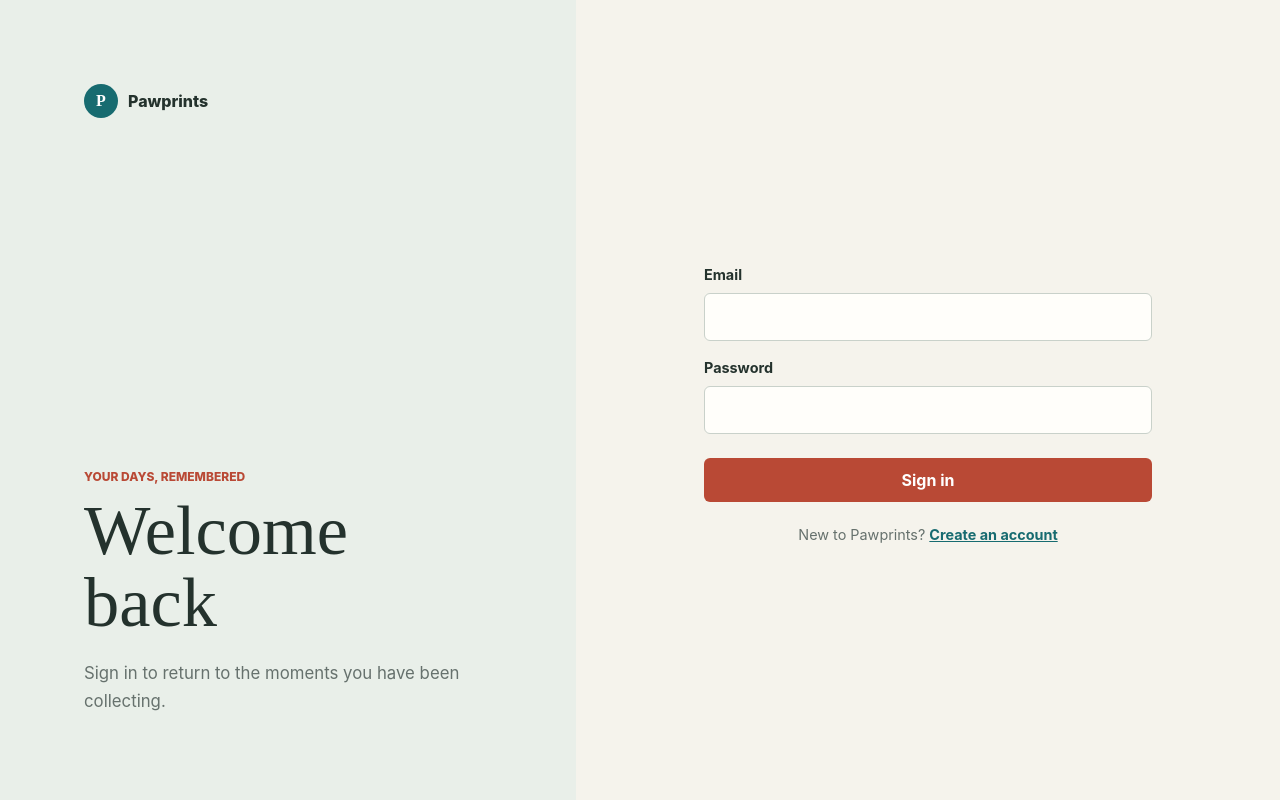
Test: auth shell › shows a generic login error without leaking backend detail
Expected: the heading "Welcome back" is shown, [84,491,348,641]
In the field labelled "Email": point(928, 316) [704,292,1152,340], type "sam@example.com"
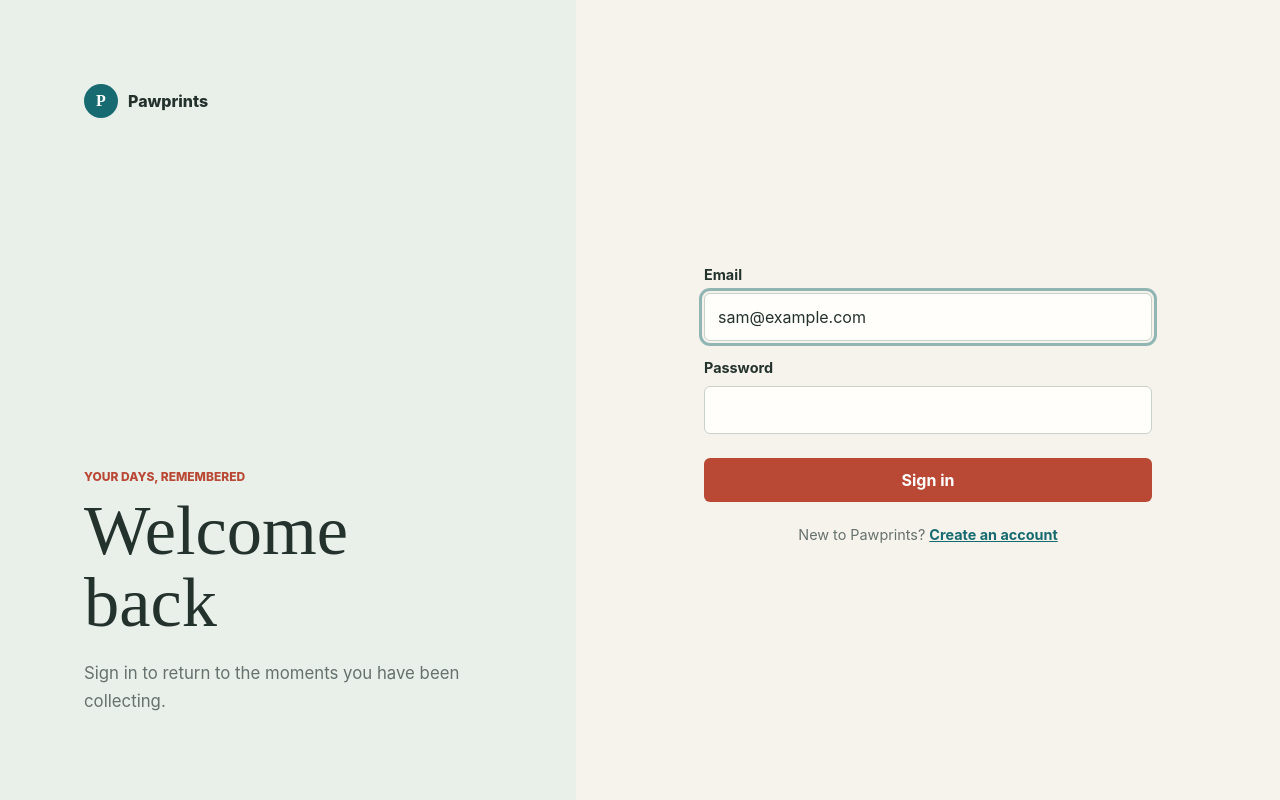
In the password field labelled "Password": point(928, 410) [704,386,1152,434], type "wrong password"
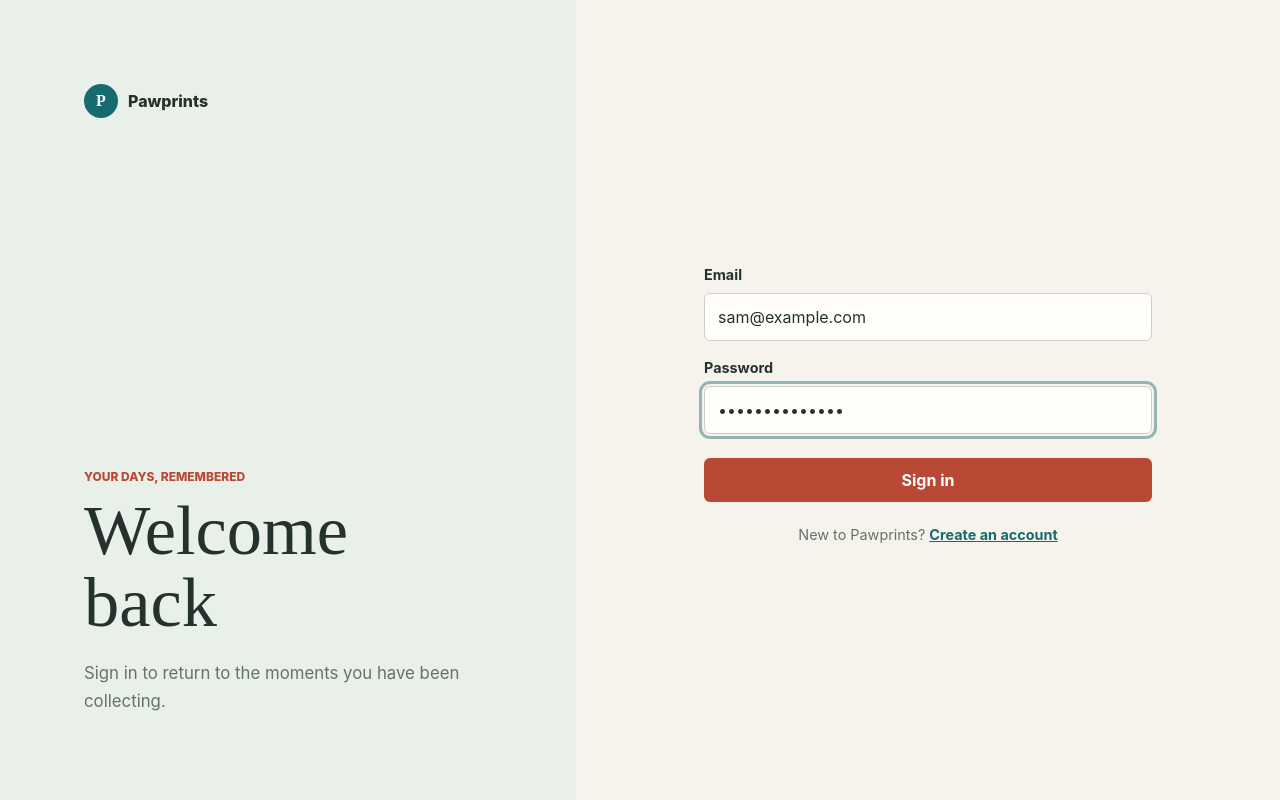
Click the button "Sign in": point(928, 480) [704,458,1152,502]
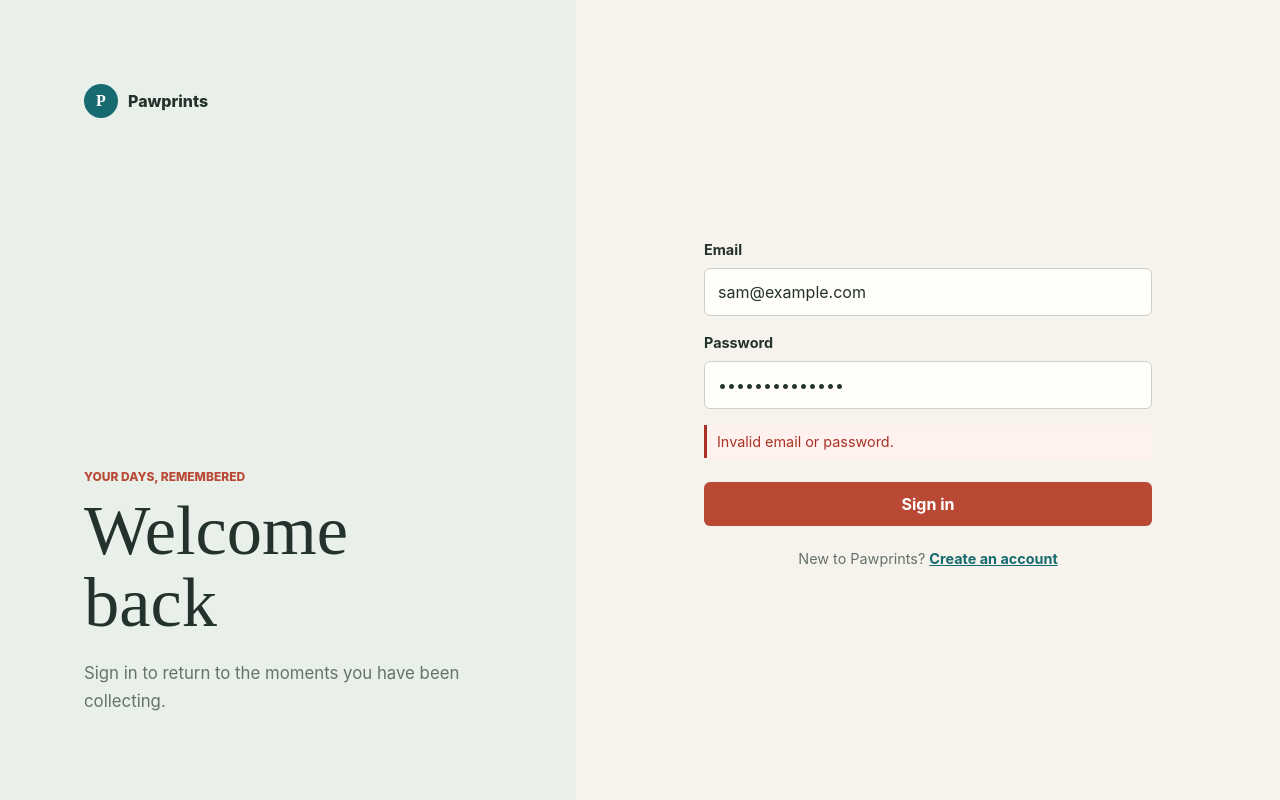
Expected: the message does not show "Database", [704,425,1152,458]
Now the message reads "Invalid email or password.", box [717,433,894,450]
